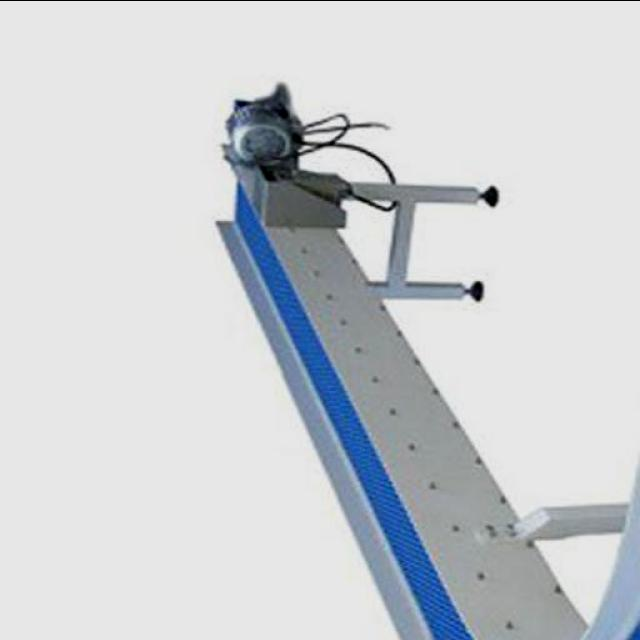conveyor: (225, 166, 474, 640)
